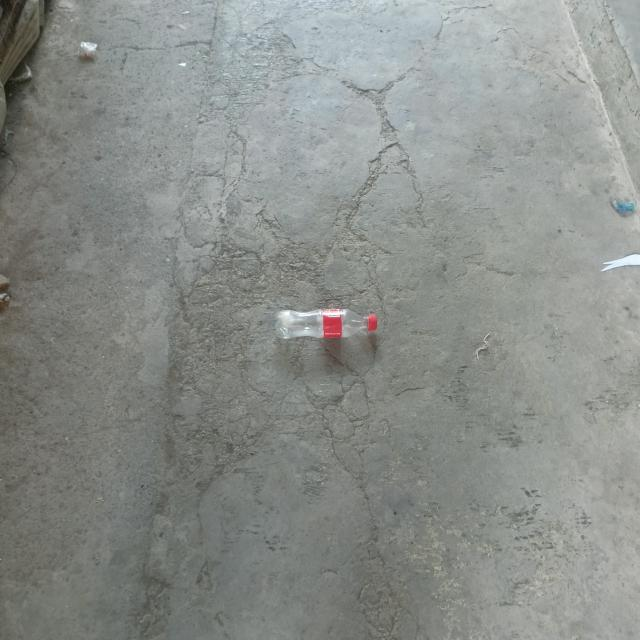Bottle: (276, 309, 377, 339)
